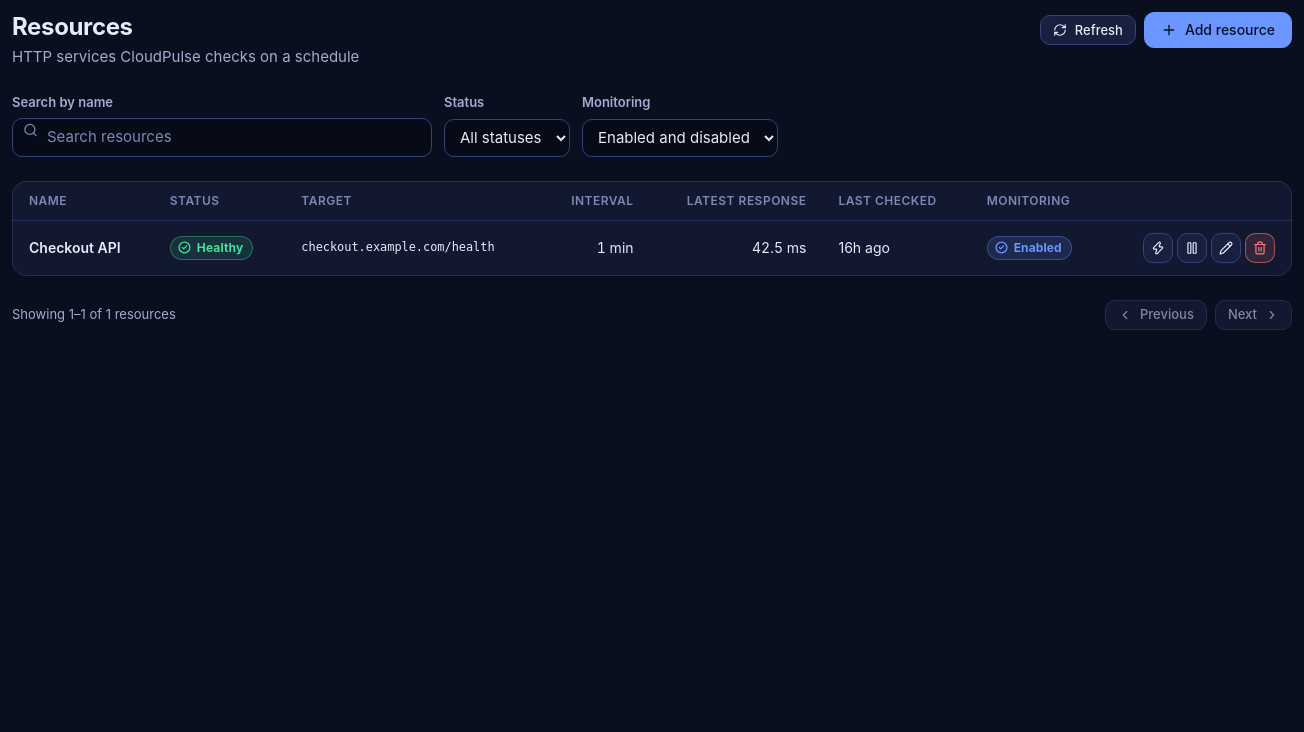
Test: ResourcesPage row actions › surfaces a 409 from a manual check as a message, not a crash
Expected: the link "Checkout API" is shown, [29, 239, 121, 256]
Click the button named "Check Checkout API now" at point(1158, 248), box [1143, 232, 1173, 262]
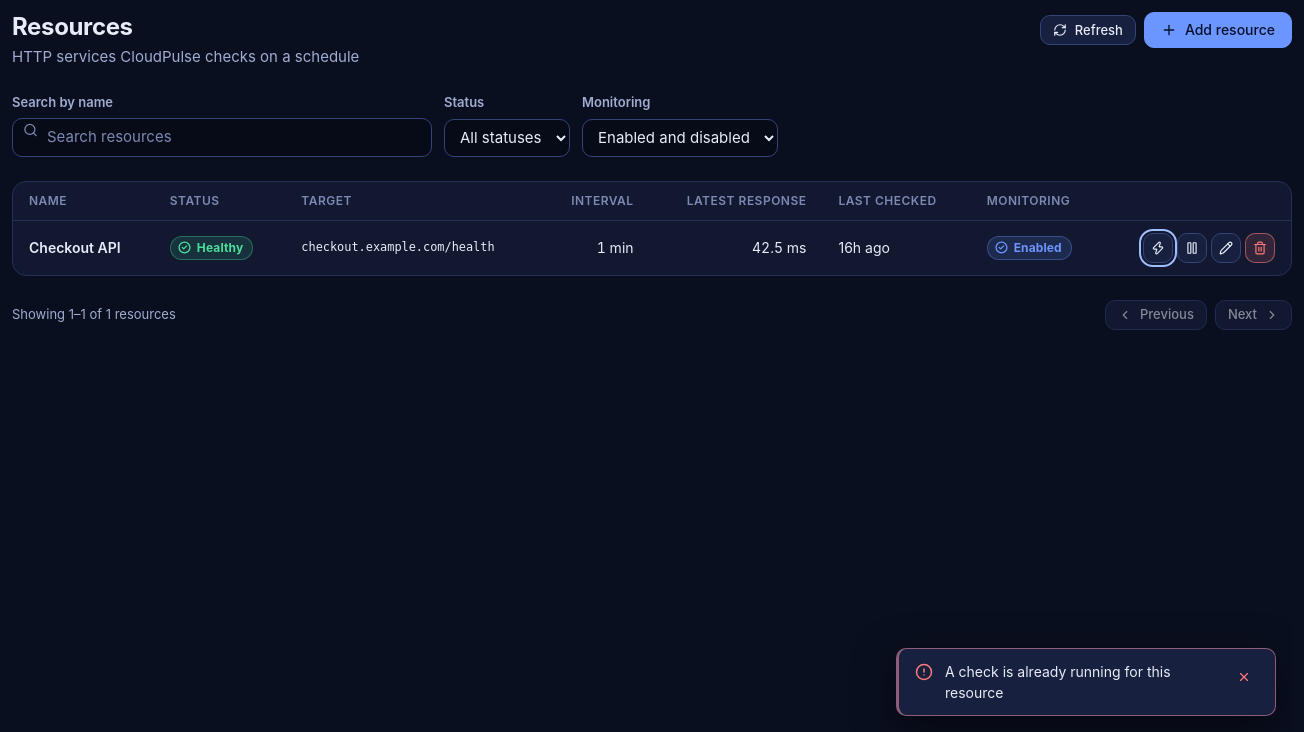
Result: the text "A check is already running for this resource" is shown at [945, 663, 1171, 701]
